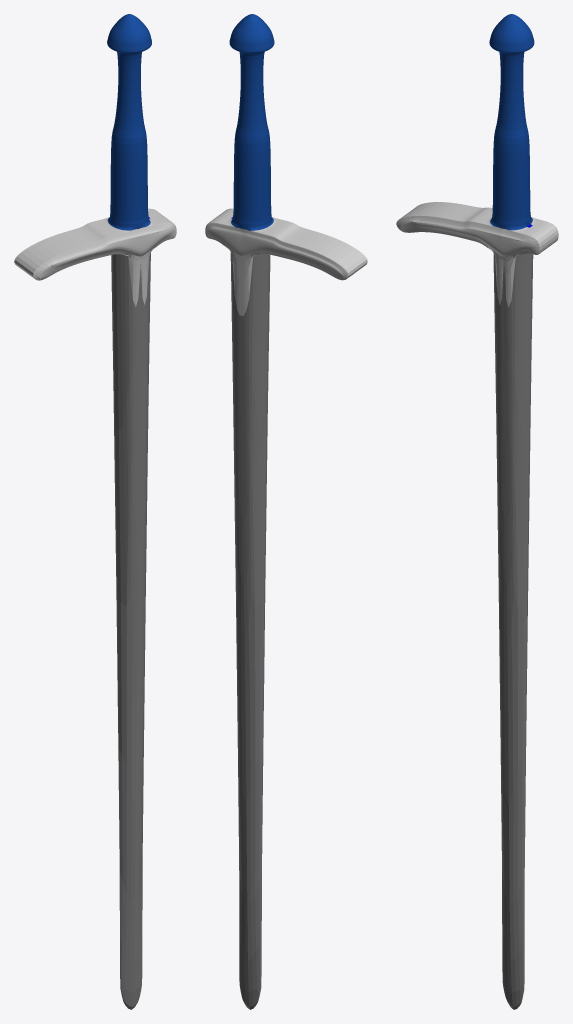
The model's file is SoldierSword.fbx.
The picture shows the model from 3 angles, left to right: view 1: azimuth 30°, elevation 25°; view 2: azimuth 150°, elevation 25°; view 3: azimuth 330°, elevation 25°; orthographic projection.
Parts seen in each view (by area): view 1: Circle; view 2: Circle; view 3: Circle.
Boxes of the visible parts, <box> form: Circle: <box>14,14,176,1009</box>; Circle: <box>205,14,367,1009</box>; Circle: <box>396,14,558,1009</box>.
Size of the model in its own units: 158 by 1049 by 43.92.
